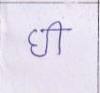i_matra: (49, 20, 65, 55)
